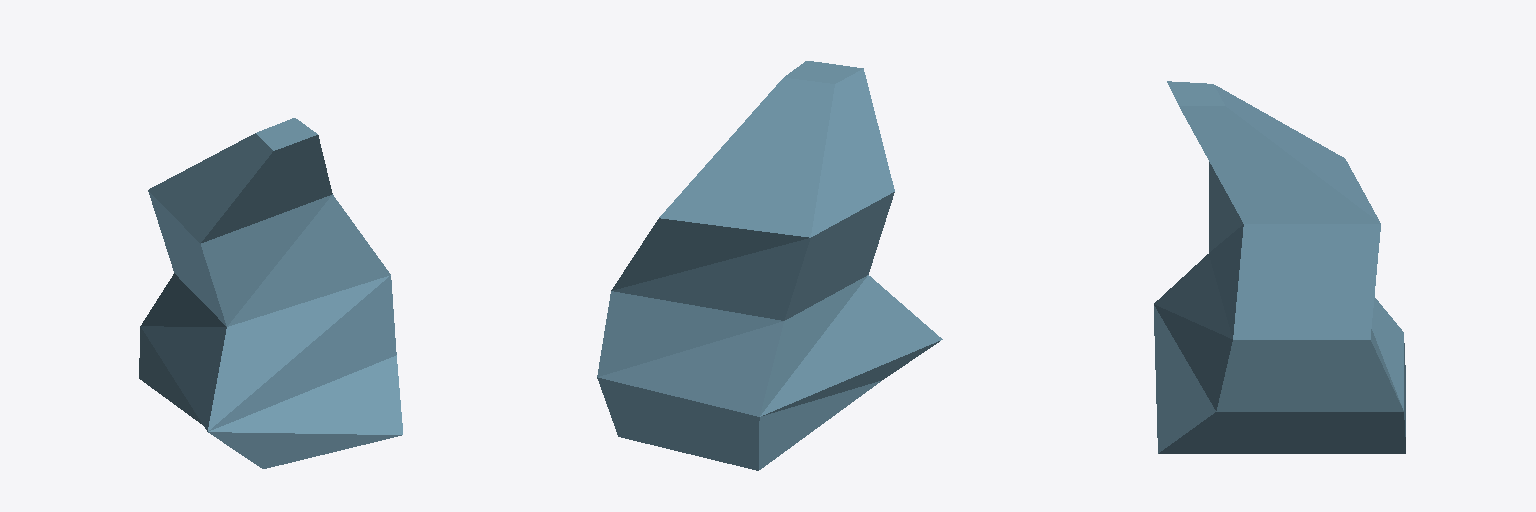
Rendered from ice.obj.
3 views of the same model, side by side, from view 1: azimuth 30°, elevation 25°; view 2: azimuth 150°, elevation 25°; view 3: azimuth 270°, elevation 25° (orthographic).
Parts seen in each view (by area): view 1: Cube; view 2: Cube; view 3: Cube.
Boxes of the visible parts, x1,y1,x2,y2 form: Cube: [139, 118, 402, 468]; Cube: [597, 61, 942, 470]; Cube: [1154, 81, 1405, 453].
Size of the model in its own units: 27.73 by 36.94 by 27.19.